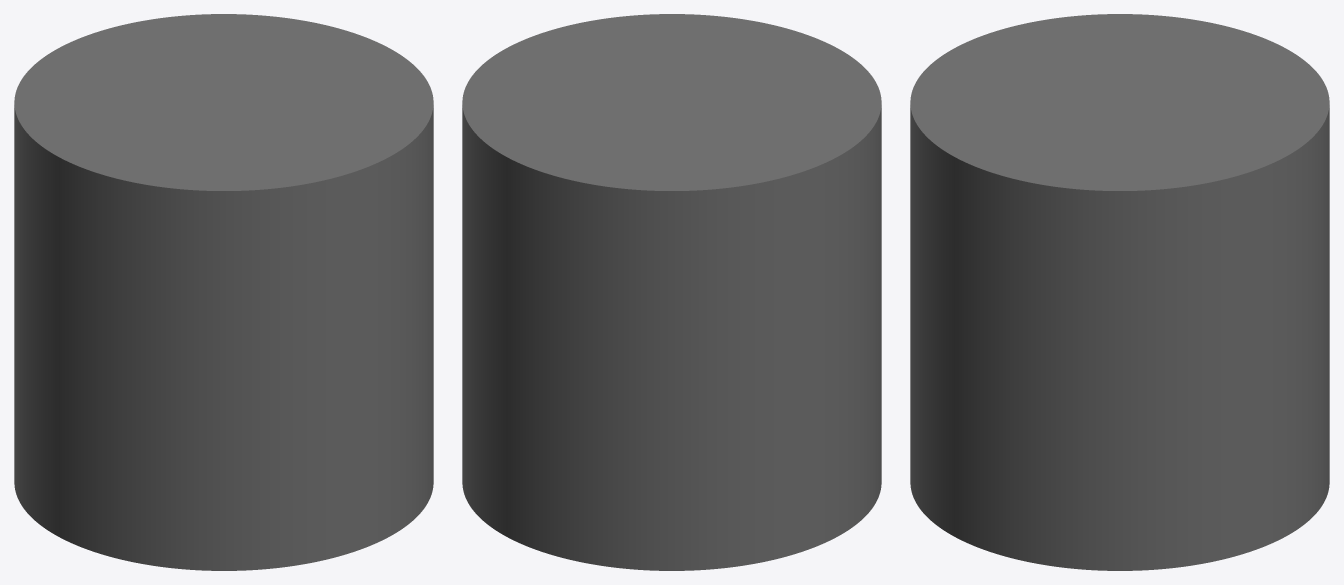
3 renders of one model, left to right at view 1: azimuth 30°, elevation 25°; view 2: azimuth 150°, elevation 25°; view 3: azimuth 270°, elevation 25°, orthographic.
Parts seen in each view (by area): view 1: 柱体.001; view 2: 柱体.001; view 3: 柱体.001.
Part boxes in pixels (x1,y1,x2,y2): 柱体.001: (14,14,433,570); 柱体.001: (462,14,881,570); 柱体.001: (910,14,1329,570).
Size of the model in its own units: 1 by 1 by 1.
